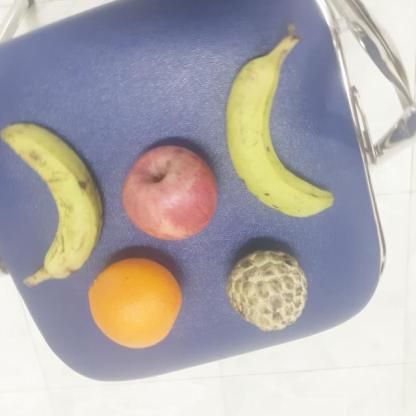annona: (227, 248, 307, 333)
apple: (122, 145, 220, 242)
banana: (224, 54, 338, 218), (0, 120, 108, 282)
orange: (88, 256, 184, 352)
